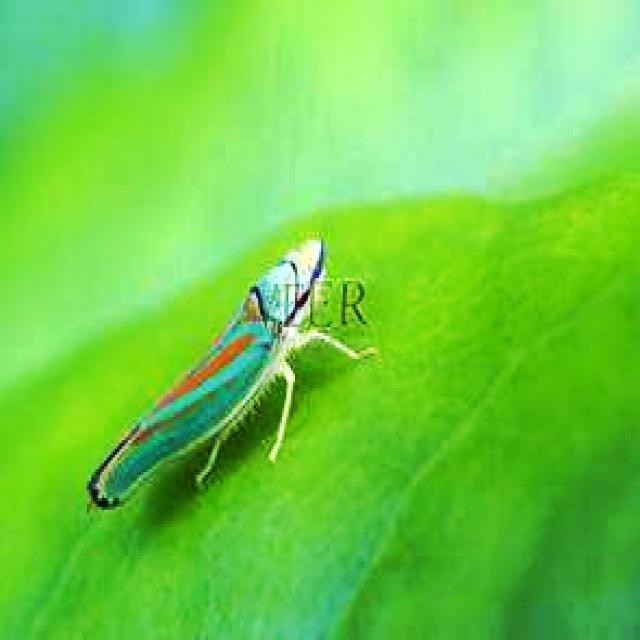green-leafhopper: (83, 223, 343, 513)
